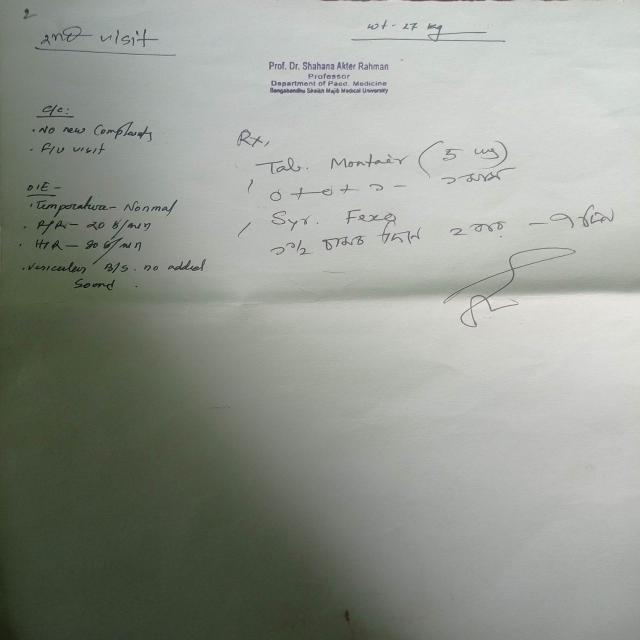Fexo: (339, 203, 400, 228)
Montair: (323, 152, 410, 173)
